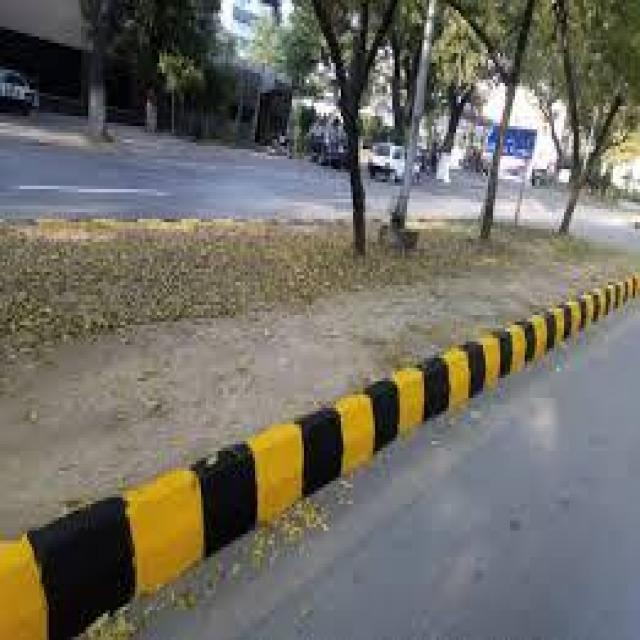curb: (1, 264, 640, 640)
